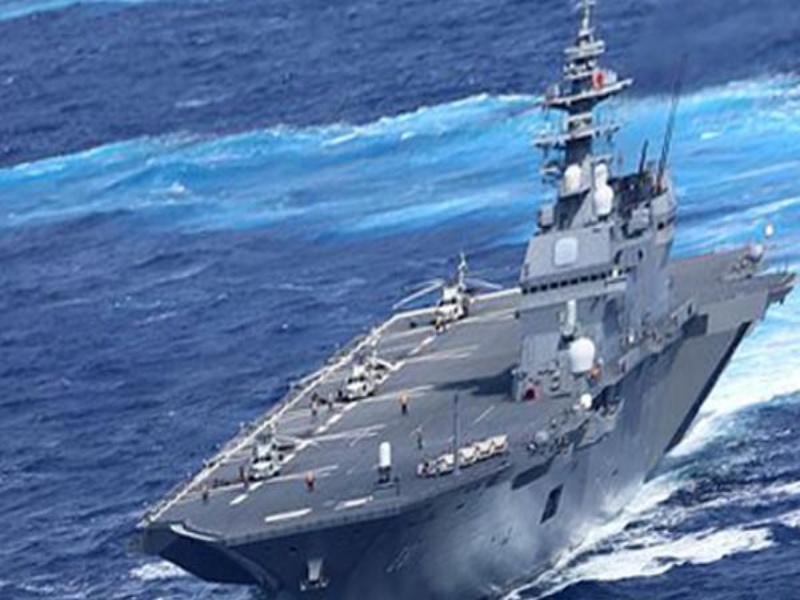carrier: (156, 80, 789, 595)
